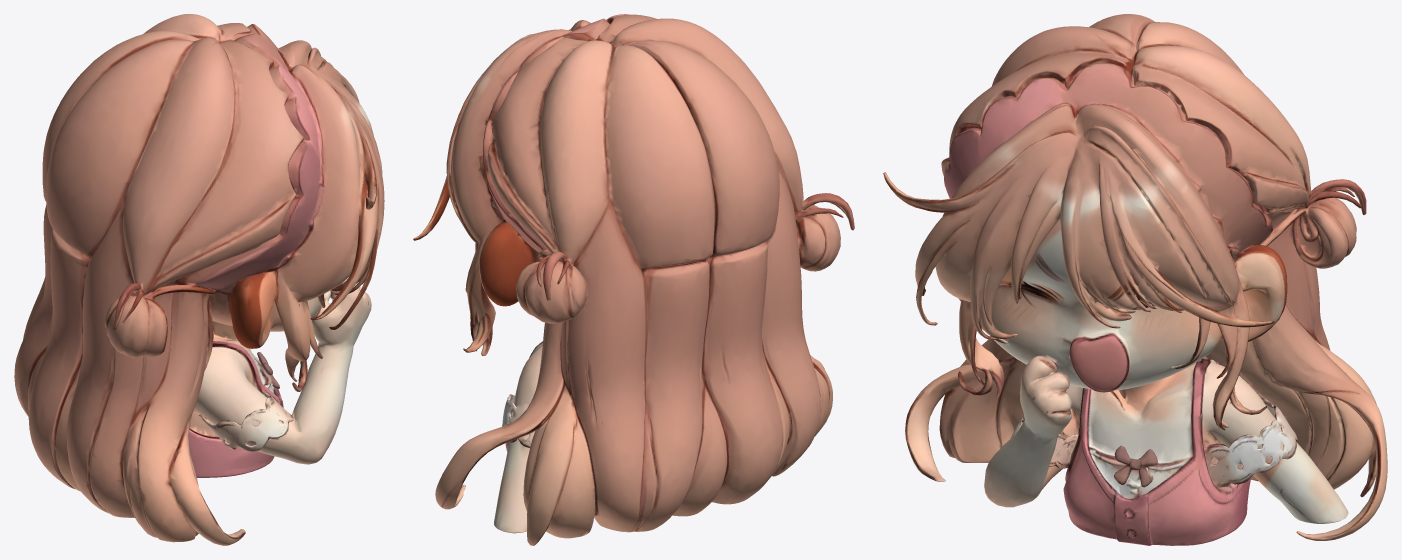
File: photo-model-1c1742.glb
The picture shows the model from 3 angles, left to right: view 1: azimuth 30°, elevation 25°; view 2: azimuth 150°, elevation 25°; view 3: azimuth 270°, elevation 25°; orthographic projection. The views are drawn at different scales.
Visible parts, largest first — view 1: tripo_node_60672ce2-b31f-4281-ade2-45a469ebd76c; view 2: tripo_node_60672ce2-b31f-4281-ade2-45a469ebd76c; view 3: tripo_node_60672ce2-b31f-4281-ade2-45a469ebd76c.
Part boxes in pixels (x1,y1,x2,y2): tripo_node_60672ce2-b31f-4281-ade2-45a469ebd76c: (14,14,384,545); tripo_node_60672ce2-b31f-4281-ade2-45a469ebd76c: (413,14,854,545); tripo_node_60672ce2-b31f-4281-ade2-45a469ebd76c: (883,14,1387,545).
Bounding box in the file's own units: 0.7687 × 1 × 0.9753.
1 material, 1 textured.
